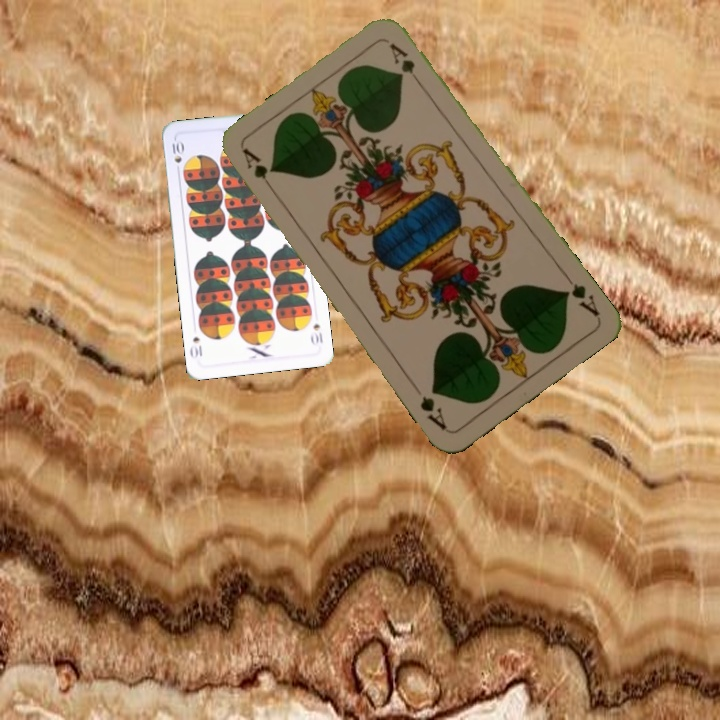GA: (559, 269, 602, 319), (239, 145, 279, 197)
S10: (168, 136, 185, 176), (307, 319, 325, 348)
